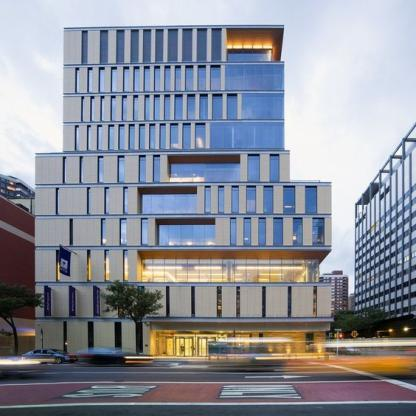Building Outline: (35, 24, 333, 362)
Door: (210, 343, 226, 361)
Facade: (35, 24, 333, 363)
Floor Slab: (35, 150, 290, 156), (63, 119, 285, 125), (63, 90, 284, 96), (36, 246, 332, 250), (63, 62, 283, 67), (36, 283, 332, 286), (36, 318, 332, 321), (35, 215, 331, 218)
Glass Wall: (142, 258, 319, 283), (156, 331, 251, 361), (210, 123, 285, 149), (224, 65, 284, 90), (170, 164, 240, 182), (159, 225, 216, 246), (242, 94, 285, 118), (142, 195, 197, 213), (226, 45, 273, 61), (211, 28, 222, 61), (196, 28, 207, 61), (167, 29, 178, 61), (182, 29, 193, 61), (248, 154, 260, 182), (313, 217, 325, 245), (283, 186, 295, 213), (226, 94, 238, 119), (306, 186, 317, 213), (263, 186, 274, 213), (195, 122, 206, 148), (210, 65, 221, 91), (270, 154, 280, 182), (212, 94, 223, 119), (246, 186, 256, 213), (100, 30, 108, 63), (117, 30, 125, 62), (131, 30, 139, 62), (143, 30, 151, 62), (293, 217, 302, 245), (274, 217, 283, 245), (156, 30, 164, 61), (114, 322, 122, 353), (174, 94, 183, 119), (199, 94, 208, 119), (182, 123, 191, 148), (258, 217, 266, 245), (243, 217, 251, 245), (119, 218, 127, 246), (136, 322, 143, 354), (185, 65, 193, 91), (117, 156, 125, 182), (198, 65, 206, 91), (306, 333, 314, 359), (187, 94, 195, 119), (170, 123, 178, 148), (82, 30, 88, 63), (141, 218, 148, 246), (232, 186, 239, 213), (118, 286, 124, 317), (138, 286, 144, 317), (88, 322, 94, 353), (153, 94, 160, 120), (159, 123, 166, 149), (149, 123, 156, 149), (118, 124, 125, 150), (153, 155, 160, 181), (139, 155, 146, 181), (128, 124, 135, 149), (230, 217, 236, 245), (219, 186, 225, 213), (205, 186, 211, 213), (164, 94, 170, 120), (98, 156, 104, 182), (111, 66, 117, 92), (217, 286, 222, 317), (133, 95, 139, 120), (139, 124, 145, 149), (108, 125, 114, 150), (123, 250, 128, 280), (144, 66, 150, 91), (154, 66, 160, 91), (164, 66, 170, 91), (175, 66, 181, 91), (123, 66, 129, 91), (99, 67, 105, 92), (101, 218, 106, 246), (111, 95, 116, 121), (122, 95, 127, 121), (145, 94, 150, 120), (124, 187, 129, 213), (56, 249, 60, 281), (87, 249, 91, 281), (74, 125, 79, 150), (100, 96, 105, 121), (97, 125, 102, 150), (75, 67, 80, 92), (134, 66, 139, 91), (236, 286, 240, 317), (191, 286, 195, 317), (166, 286, 170, 317), (69, 218, 73, 246), (87, 187, 91, 214), (55, 188, 59, 215), (259, 333, 263, 360), (105, 187, 109, 213), (90, 96, 94, 121), (87, 125, 91, 150), (88, 67, 92, 92), (314, 286, 317, 317), (288, 286, 291, 317), (262, 286, 265, 317), (64, 322, 67, 353), (106, 250, 109, 280), (63, 156, 66, 183), (80, 156, 83, 183), (81, 96, 84, 122)
Window: (137, 250, 331, 283), (167, 155, 241, 183), (225, 28, 284, 62)
